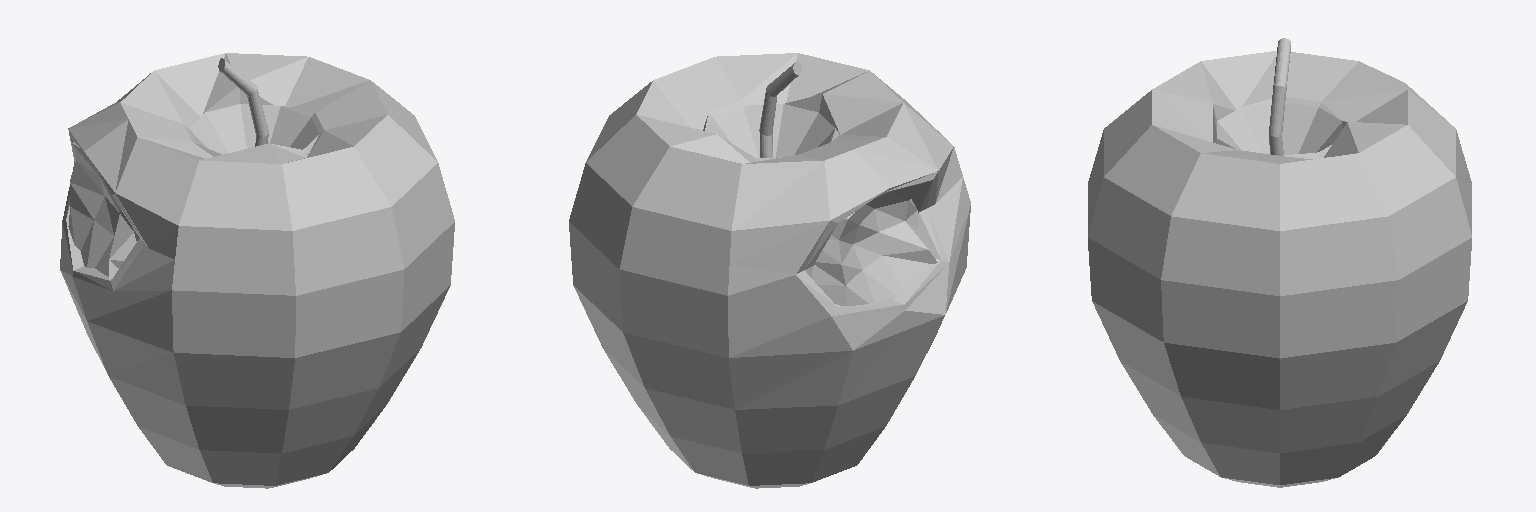
Rendered from manzana2.obj.
3 views of the same model, side by side, from view 1: azimuth 30°, elevation 25°; view 2: azimuth 150°, elevation 25°; view 3: azimuth 270°, elevation 25° (orthographic).
Parts seen in each view (by area): view 1: pSphere1, pPlane1, pCylinder1; view 2: pSphere1, pPlane1, pCylinder1; view 3: pSphere1, pCylinder1.
Part boxes in pixels (x1,y1,x2,y2): pSphere1: (60, 53, 454, 488); pPlane1: (68, 142, 139, 279); pCylinder1: (218, 58, 268, 146); pSphere1: (569, 53, 970, 488); pPlane1: (812, 182, 937, 305); pCylinder1: (759, 62, 801, 157); pSphere1: (1088, 51, 1471, 487); pCylinder1: (1269, 38, 1290, 155).
Size of the model in its own units: 5.21 by 5.83 by 5.01.